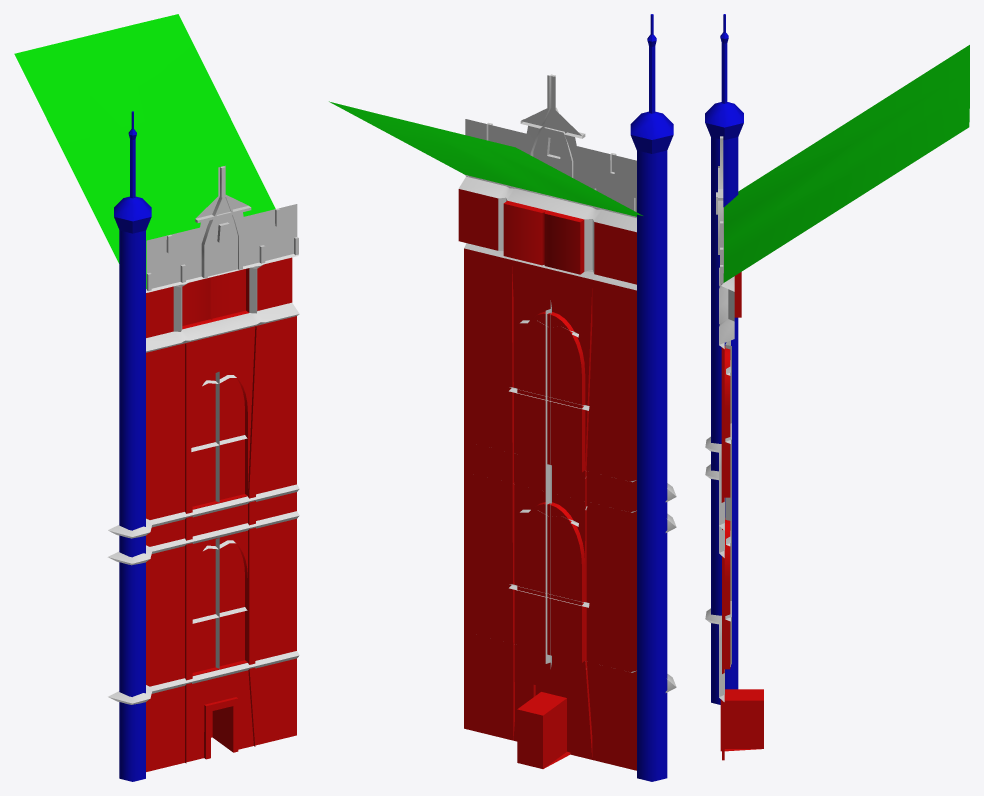
File: clock tower_wall.fbx
The picture shows the model from 3 angles, left to right: view 1: azimuth 30°, elevation 25°; view 2: azimuth 150°, elevation 25°; view 3: azimuth 270°, elevation 25°; orthographic projection. The views are drawn at different scales.
Visible parts, largest first — view 1: Plane002; view 2: Plane002; view 3: Plane002.
Part boxes in pixels (x1,y1,x2,y2): Plane002: (14, 14, 299, 781); Plane002: (329, 14, 676, 781); Plane002: (705, 14, 969, 760).
Size of the model in its own units: 282 by 953 by 334.
